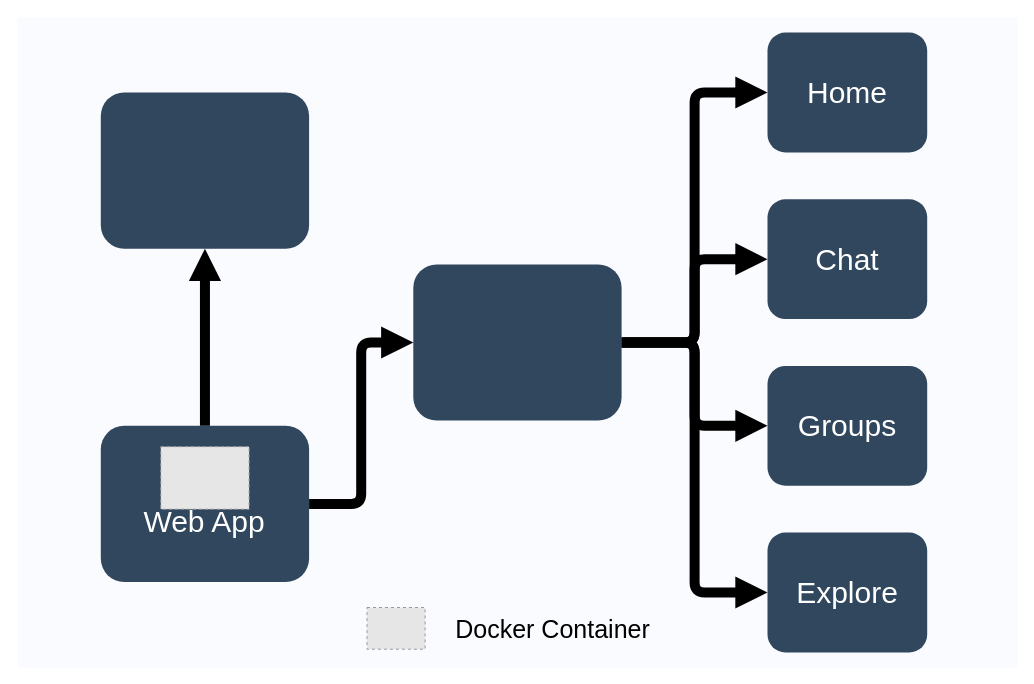
Some shapes in this 1034 by 684 pixel diagram are drawn without their labels. Grey dashed boxes stand in for pictures. The shapes that lost their labels are listed below. From the top down, each one's centre as x and y in pixels, then its label:
the point at 204,170: API to Backend
the point at 517,342: Signin/Signup
